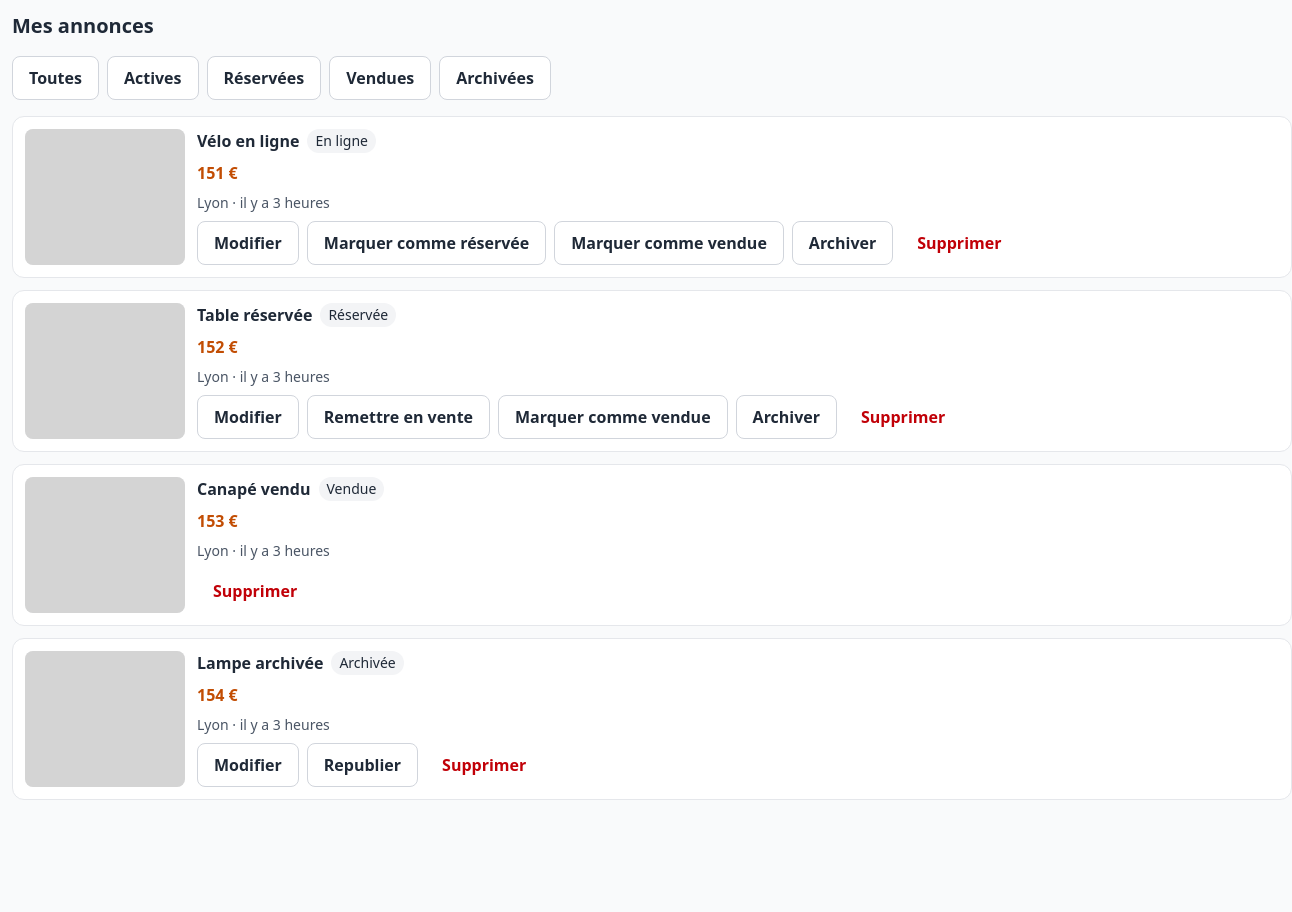
Mes annonces : changements de statut › affiche le message du serveur quand le changement est refusé
Expected: the link "Vélo en ligne" is shown, [197, 129, 300, 153]
Click the 1st button "Archiver" at (842, 243), box [792, 221, 893, 265]
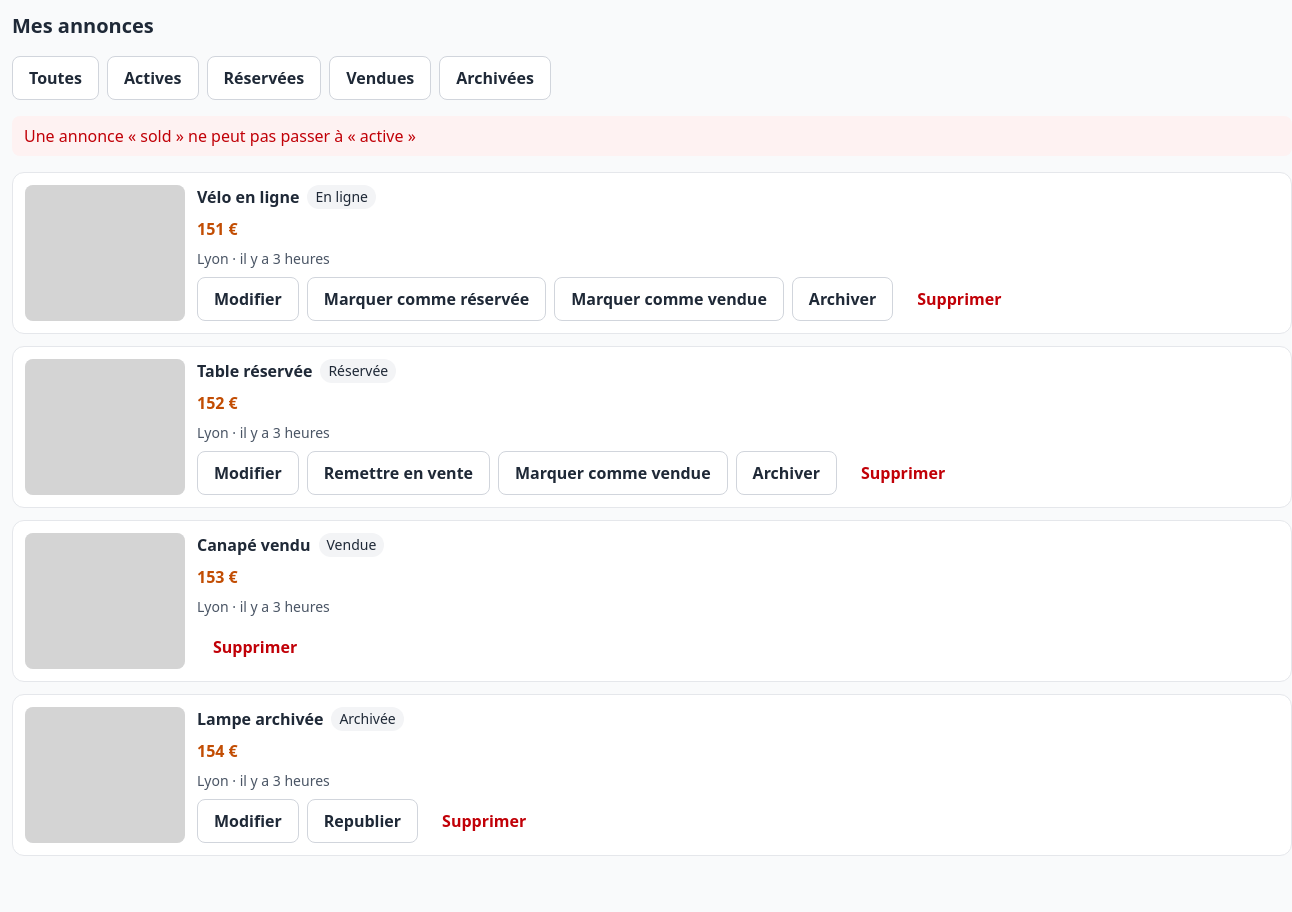
Expected: the message shows "ne peut pas passer à", [24, 125, 416, 147]
